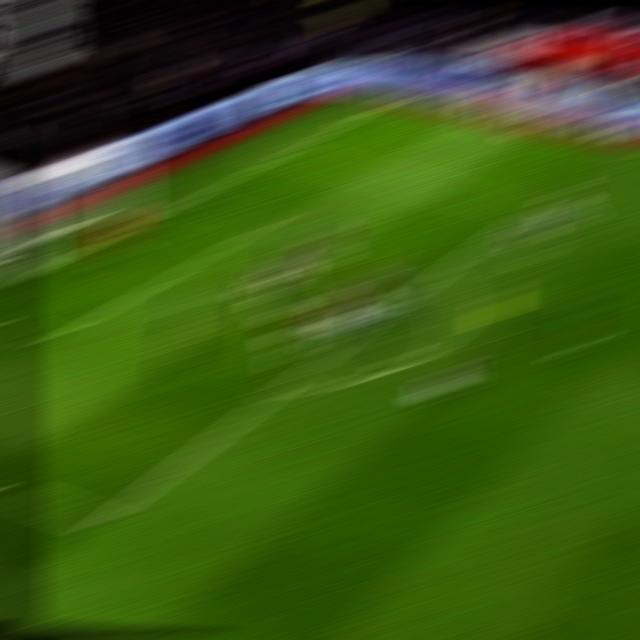bigarea_bottom_inner: (78, 506, 125, 537)
bigarea_top_inner: (512, 201, 549, 216)
bigarea_top_outter: (268, 145, 307, 158)
bottom_arc_area_intersection: (264, 376, 306, 396)
corner: (372, 97, 414, 106)
smallarea_bottom_inner: (30, 325, 74, 350)
smallarea_top_inner: (247, 214, 287, 230)
smallarea_top_outter: (168, 193, 207, 208)
top_arc_area_intersection: (414, 271, 452, 286)
